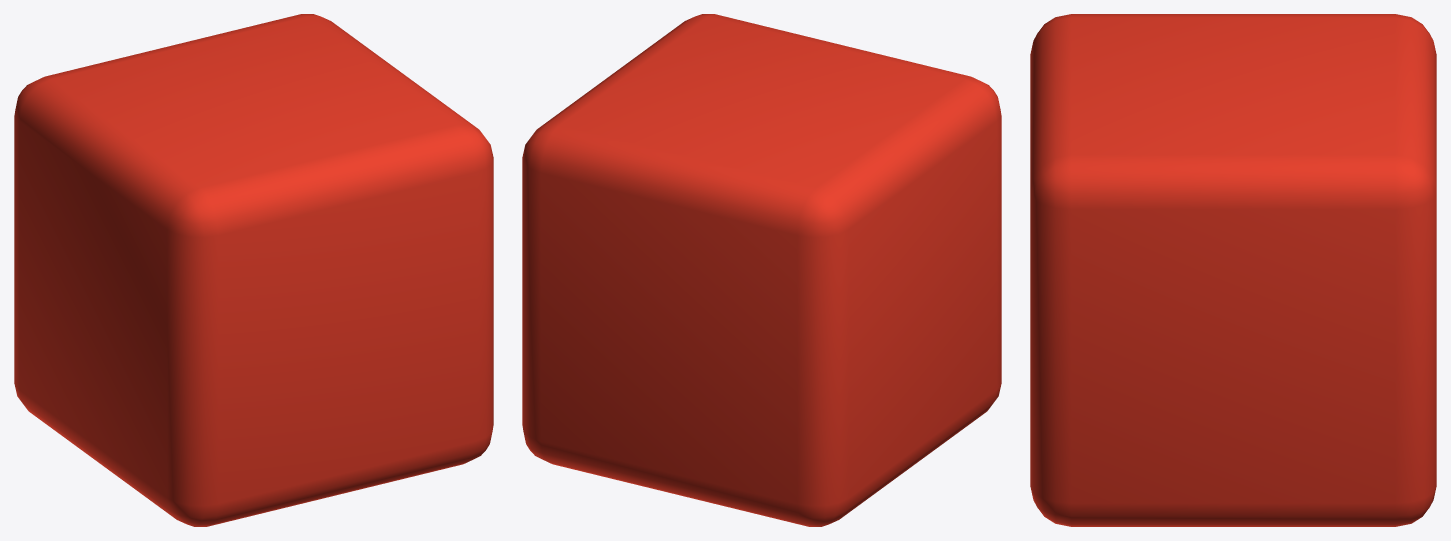
The model's file is mini-square.glb.
The picture shows the model from 3 angles, left to right: view 1: azimuth 30°, elevation 25°; view 2: azimuth 150°, elevation 25°; view 3: azimuth 270°, elevation 25°; orthographic projection. The views are drawn at different scales.
Parts seen in each view (by area): view 1: Cube; view 2: Cube; view 3: Cube.
Part boxes in pixels (x1=…): Cube: x1=14, y1=14, x2=493, y2=526; Cube: x1=522, y1=14, x2=1001, y2=526; Cube: x1=1030, y1=14, x2=1436, y2=526.
Size of the model in its own units: 2 by 2 by 2.
